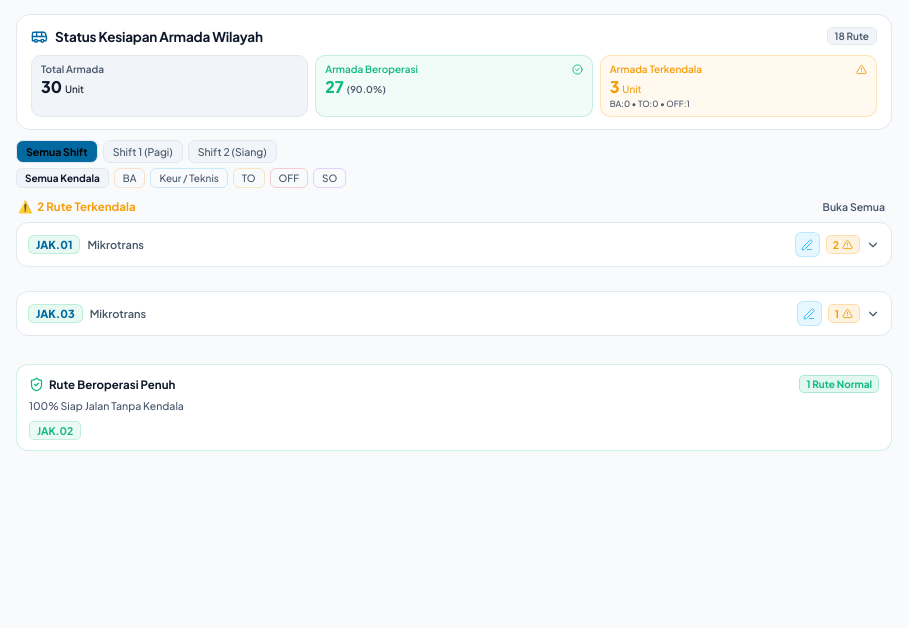
Test case: MonitoringFleetStatusTab Component › groups non-SGO units by route and displays normal routes in separate section
Expected: the text "KWK 222177" is not shown
Click the button "Buka Semua".
click(854, 207)  # box [818,198,890,215]
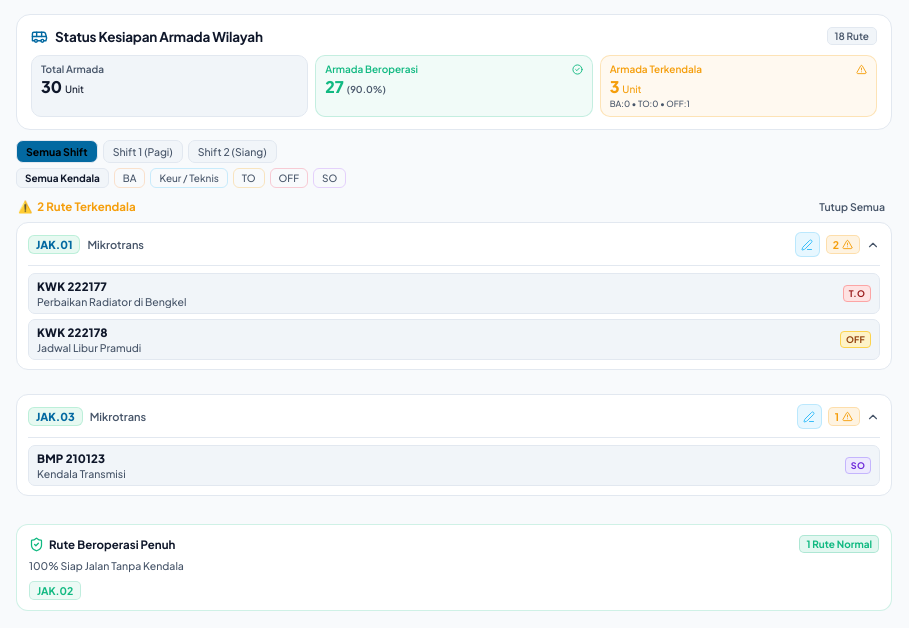
Expected: the text "KWK 222177" is shown, [37,279,107,294]
Expected: the text "Perbaikan Radiator di Bengkel" is shown, [37,295,186,308]
Expected: the text "BMP 210123" is shown, [37,451,105,466]
